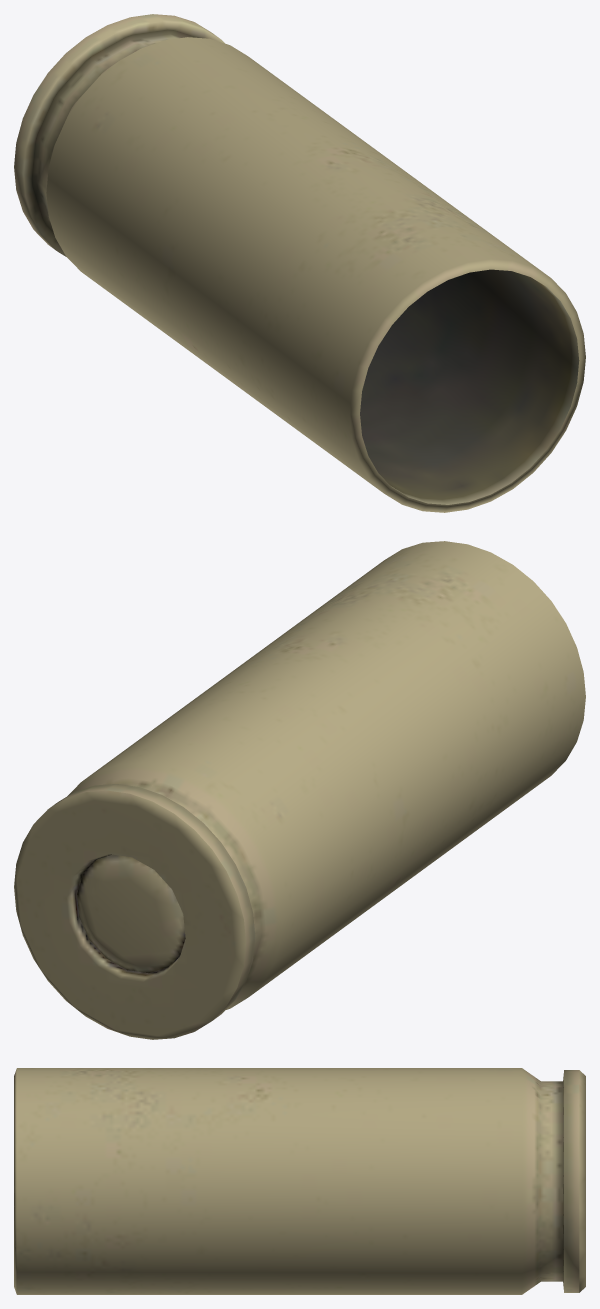
File: casing_deagle_casing.glb
The picture shows the model from 3 angles, top to bottom: view 1: azimuth 30°, elevation 25°; view 2: azimuth 150°, elevation 25°; view 3: azimuth 270°, elevation 25°; orthographic projection. The views are drawn at different scales.
Visible parts, largest first — view 1: casing_deagle_casing; view 2: casing_deagle_casing; view 3: casing_deagle_casing.
Boxes of the visible parts, x1=… form: casing_deagle_casing: x1=14, y1=14, x2=585, y2=512; casing_deagle_casing: x1=14, y1=541, x2=585, y2=1039; casing_deagle_casing: x1=14, y1=1068, x2=585, y2=1294.
Bounding box in the file's own units: 0.0124 × 0.0124 × 0.0311.
1 material, 1 textured.
